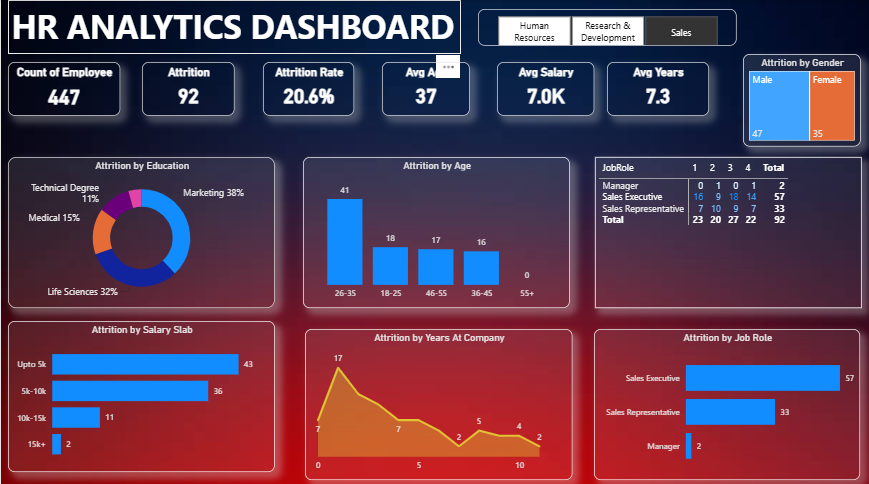

The page's visual inventory and layout, read from the dashboard file:
{"tool":"powerbi","page":{"name":"Page 1","canvas":[1280,720],"ordinal":0},"visuals":[{"type":"textbox","box":[10.1,0,665.2,79],"z":0},{"type":"card","title":"Count of Employee","fields":{"Values":["CountNonNull(HR_Analytics.EmpID)"]},"box":[10.3,91.1,164.6,79.3],"z":1000},{"type":"card","title":"Attrition","fields":{"Values":["Sum(HR_Analytics.AttritionCount)"]},"box":[206.6,90.7,136.1,79],"z":2000},{"type":"card","title":"Attrition Rate","fields":{"Values":["HR_Analytics.AttritionRate"]},"box":[384.7,90.7,134.4,79],"z":3000},{"type":"card","title":"Avg Age","fields":{"Values":["Avg(HR_Analytics.Age)"]},"box":[559.4,90.7,129.3,79],"z":4000},{"type":"card","title":"Avg Salary","fields":{"Values":["Avg(HR_Analytics.MonthlyIncome)"]},"box":[729,90.7,142.8,79],"z":5000},{"type":"card","title":"Avg Years","fields":{"Values":["Avg(HR_Analytics.YearsAtCompany)"]},"box":[890.3,90.7,149.5,79],"z":6000},{"type":"donutChart","title":"Attrition by Education","fields":{"Y":["Sum(HR_Analytics.AttritionCount)"],"Category":["HR_Analytics.EducationField"]},"box":[10.3,230.7,392.3,221.9],"z":7000},{"type":"columnChart","title":"Attrition by Age","fields":{"Category":["HR_Analytics.AgeGroup"],"Y":["Sum(HR_Analytics.AttritionCount)"]},"box":[443.8,230.7,392.3,221.9],"z":8000},{"type":"pivotTable","fields":{"Rows":["HR_Analytics.JobRole"],"Columns":["HR_Analytics.JobSatisfaction"],"Values":["Sum(HR_Analytics.AttritionCount)"]},"box":[872.8,230.7,392.3,221.9],"z":9000},{"type":"barChart","title":"Attrition by Salary Slab","fields":{"Category":["HR_Analytics.SalarySlab"],"Y":["Sum(HR_Analytics.AttritionCount)"]},"box":[10.3,471.7,392.3,221.9],"z":10000},{"type":"barChart","title":"Attrition by Job Role","fields":{"Y":["Sum(HR_Analytics.AttritionCount)"],"Category":["HR_Analytics.JobRole"]},"box":[871.8,483.8,391.4,221.7],"z":11000},{"type":"areaChart","title":"Attrition by Years At Company","fields":{"Category":["HR_Analytics.YearsAtCompany"],"Y":["Sum(HR_Analytics.AttritionCount)"]},"box":[446.8,483.8,393.1,221.7],"z":12000},{"type":"treemap","title":"Attrition by Gender","fields":{"Group":["HR_Analytics.Gender"],"Values":["Sum(HR_Analytics.AttritionCount)"]},"box":[1090.2,79,173,136.1],"z":13000},{"type":"slicer","fields":{"Values":["HR_Analytics.Department"]},"box":[700.5,13.4,379.6,53.8],"z":14000}]}

Visuals, with their boxes in screenshot pixels (x1, y1, x2, y2), scaled from the page's 1280x720 canvas onto the 869x484 screenshot:
textbox: bbox(7, 0, 458, 53)
"Count of Employee" card: bbox(7, 61, 119, 115)
"Attrition" card: bbox(140, 61, 233, 114)
"Attrition Rate" card: bbox(261, 61, 352, 114)
"Avg Age" card: bbox(380, 61, 468, 114)
"Avg Salary" card: bbox(495, 61, 592, 114)
"Avg Years" card: bbox(604, 61, 706, 114)
"Attrition by Education" donutChart: bbox(7, 155, 273, 304)
"Attrition by Age" columnChart: bbox(301, 155, 568, 304)
pivotTable - HR_Analytics.JobRole x HR_Analytics.JobSatisfaction: bbox(593, 155, 859, 304)
"Attrition by Salary Slab" barChart: bbox(7, 317, 273, 466)
"Attrition by Job Role" barChart: bbox(592, 325, 858, 474)
"Attrition by Years At Company" areaChart: bbox(303, 325, 570, 474)
"Attrition by Gender" treemap: bbox(740, 53, 858, 145)
slicer - HR_Analytics.Department: bbox(476, 9, 733, 45)
